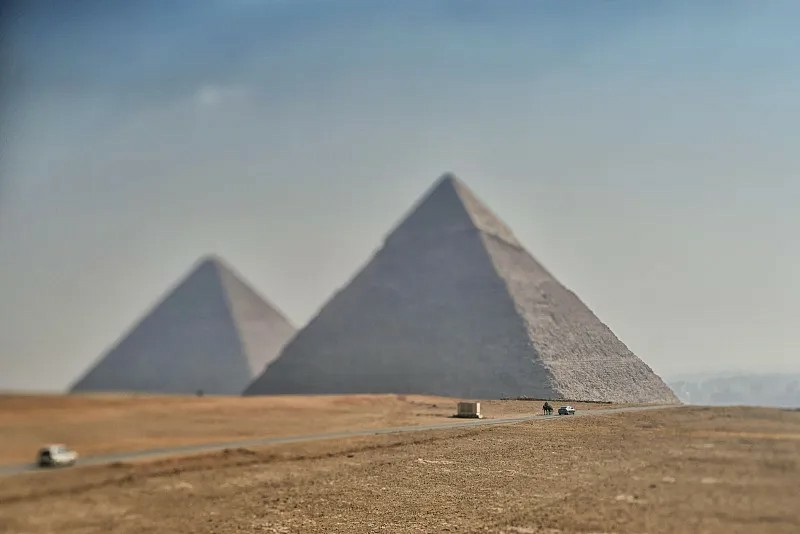Pyramid: (240, 172, 684, 407), (71, 257, 296, 395)
